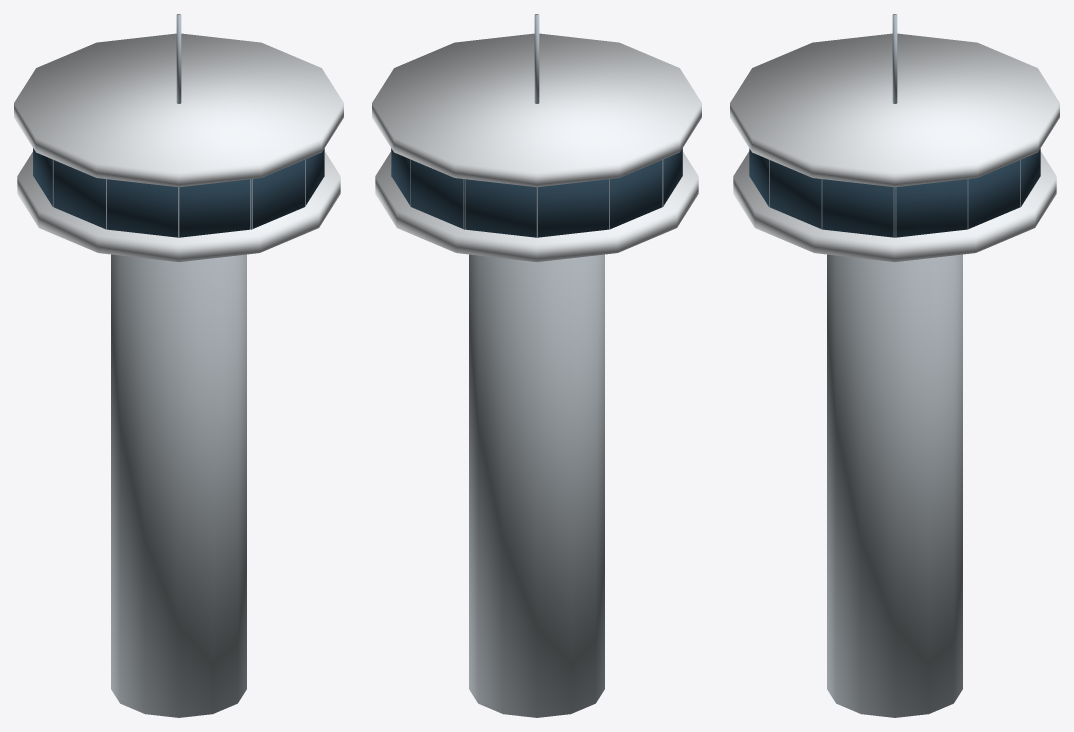
The model's file is ControlTower.glb.
3 views of the same model, side by side, from view 1: azimuth 30°, elevation 25°; view 2: azimuth 150°, elevation 25°; view 3: azimuth 270°, elevation 25° (orthographic).
Visible parts, largest first — view 1: Tower shaft, Cab floor, Control cab glazing, Antenna; view 2: Tower shaft, Cab floor, Control cab glazing, Antenna; view 3: Tower shaft, Cab floor, Control cab glazing, Antenna.
Part boxes in pixels (x1=…): Tower shaft: x1=111, y1=254, x2=246, y2=717; Cab floor: x1=14, y1=33, x2=343, y2=261; Control cab glazing: x1=33, y1=148, x2=324, y2=237; Antenna: x1=33, y1=14, x2=324, y2=237; Tower shaft: x1=469, y1=254, x2=604, y2=717; Cab floor: x1=372, y1=33, x2=701, y2=261; Control cab glazing: x1=391, y1=148, x2=682, y2=237; Antenna: x1=391, y1=14, x2=682, y2=237; Tower shaft: x1=827, y1=254, x2=962, y2=717; Cab floor: x1=730, y1=33, x2=1059, y2=261; Control cab glazing: x1=749, y1=148, x2=1040, y2=237; Antenna: x1=769, y1=14, x2=1020, y2=237.
Bounding box in the file's own units: 20.4 × 46 × 20.4.
